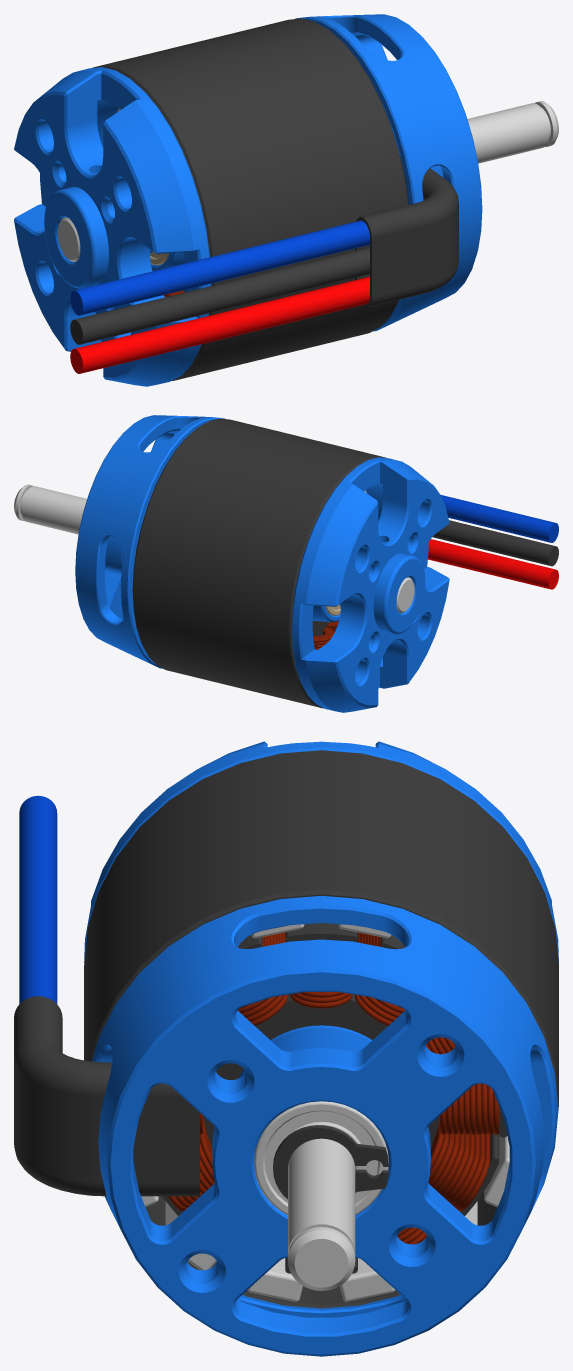
File: 100. Brushless DC Motor 3542 930KV.fbx
3 renders of one model, top to bottom at view 1: azimuth 30°, elevation 25°; view 2: azimuth 150°, elevation 25°; view 3: azimuth 270°, elevation 25°, orthographic. The views are drawn at different scales.
Parts seen in each view (by area): view 1: Body004, Body003, Body, Body011, Body012, Body013, Body014, Body005; view 2: Body004, Body003, Body, Body005, Body013, Body012, Body014; view 3: Body, Body004, Body011, Body009 (×6), Body005, Body014, Body003, Cut, Body001, Body006 (×3), Body010.
Boxes of the visible parts, x1,y1,x2,y2 form: Body004: (92,18,408,380); Body003: (14,67,211,386); Body: (151,14,482,331); Body011: (355,156,458,307); Body012: (70,247,369,344); Body013: (70,276,369,373); Body014: (70,220,369,315); Body005: (57,101,558,261); Body004: (132,418,386,708); Body003: (292,457,449,712); Body: (75,415,339,668); Body005: (14,484,414,613); Body013: (428,539,558,589); Body012: (432,520,558,566); Body014: (441,495,558,542); Body: (91,895,558,1356); Body004: (84,750,558,1308); Body011: (14,996,199,1196); Body009 (×6): (168,932,499,1210); Body005: (288,1138,355,1290); Body014: (19,795,57,1003); Body003: (84,741,558,963); Cut: (162,923,507,1273); Body001: (254,1101,388,1215); Body006 (×3): (247,1135,509,1301); Body010: (273,1125,388,1199).
Size of the model in its own units: 7.15 by 3.52 by 4.04.
